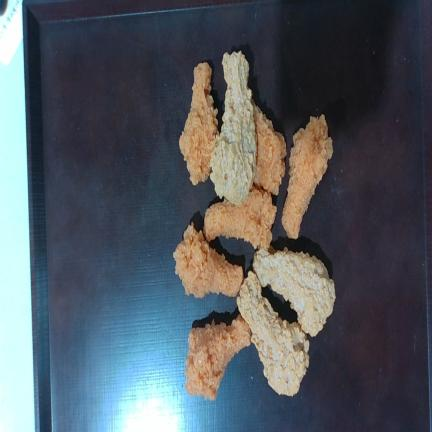chicken: (237, 272, 309, 395), (254, 248, 335, 336), (210, 51, 256, 203), (282, 115, 333, 238), (185, 315, 250, 400), (173, 222, 243, 298), (179, 63, 217, 184), (204, 187, 276, 249)
